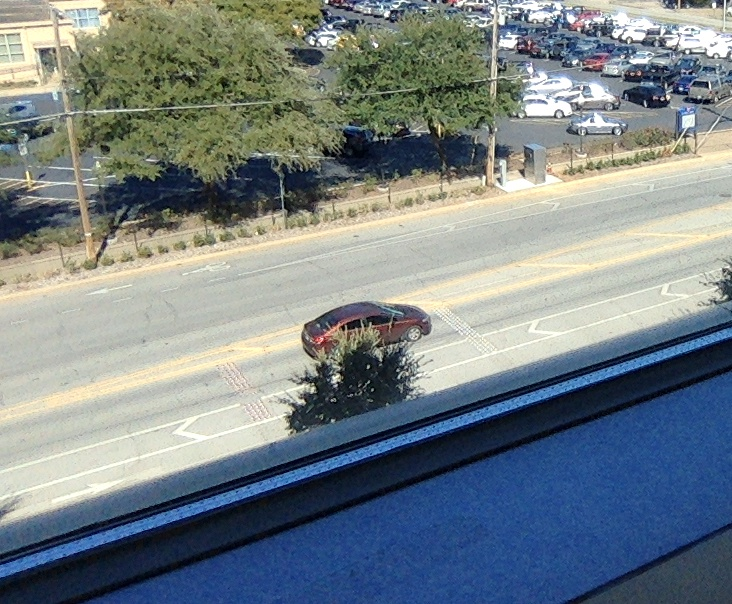car: (300, 300, 432, 361)
